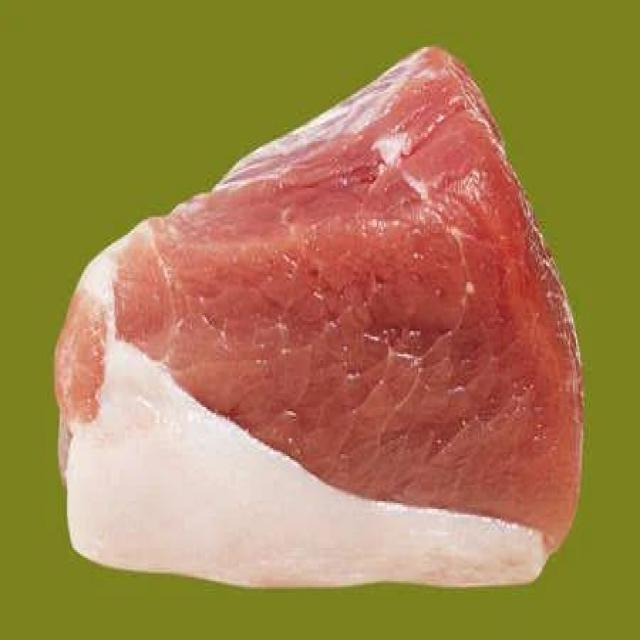Pork: (68, 59, 571, 580)
